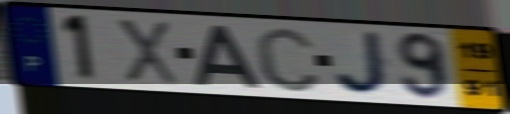1: (59, 13, 98, 84)
9: (393, 30, 451, 104)
A: (192, 23, 264, 90)
C: (252, 24, 323, 94)
J: (332, 29, 394, 97)
X: (113, 16, 181, 87)
